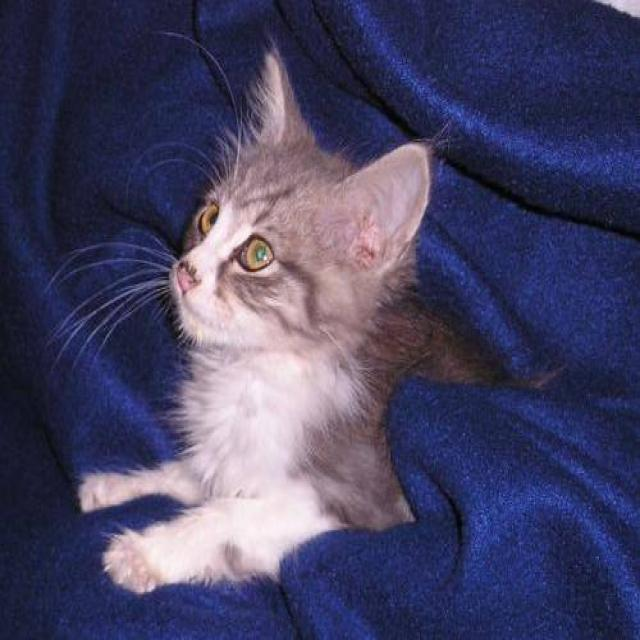cat: (42, 33, 558, 595)
